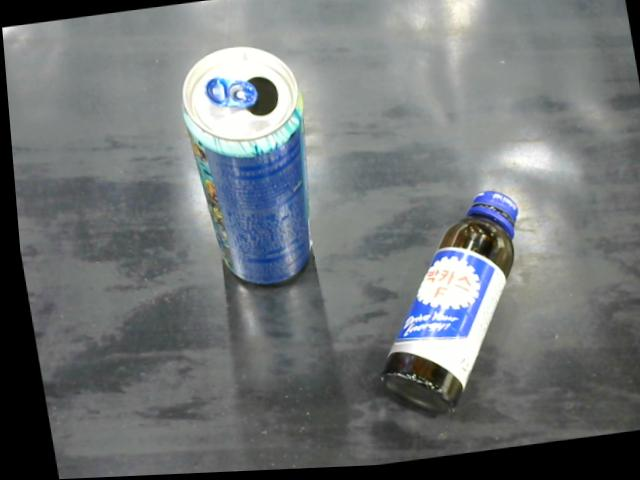can: (169, 39, 330, 296)
glass: (371, 193, 516, 424)
